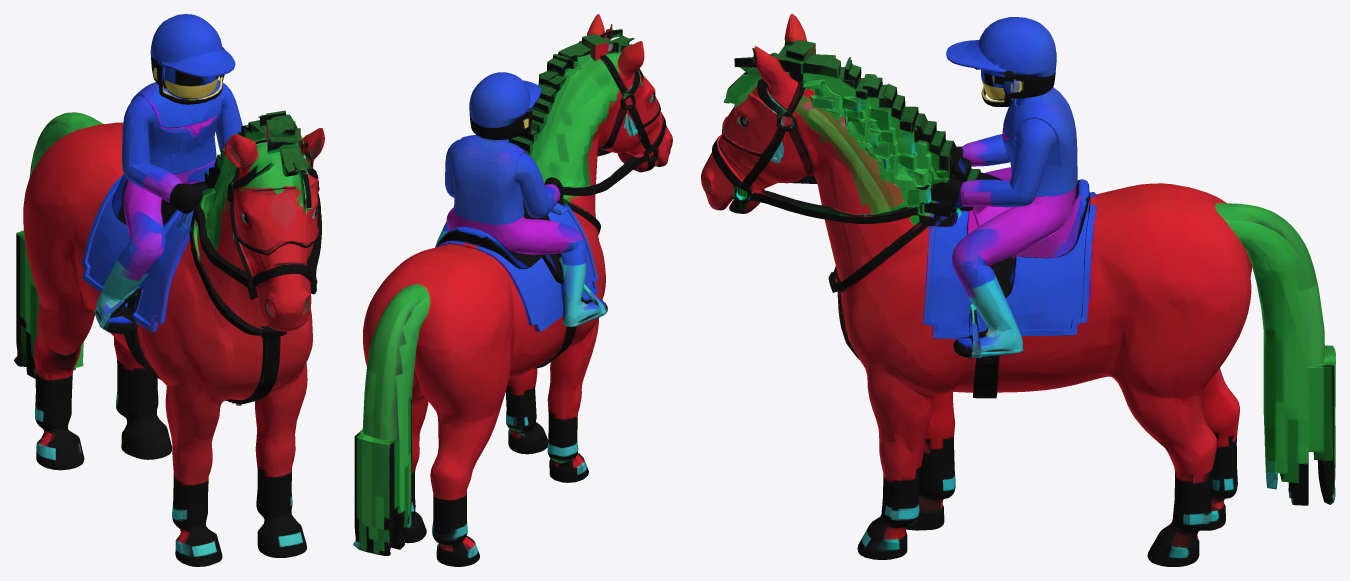
Rendered from meshy-robusto-lisa.glb.
3 renders of one model, left to right at view 1: azimuth 30°, elevation 25°; view 2: azimuth 150°, elevation 25°; view 3: azimuth 270°, elevation 25°, orthographic. The views are drawn at different scales.
Size of the model in its own units: 0.7615 by 1.72 by 1.9.
Materials: 1 (1 with a texture image).
